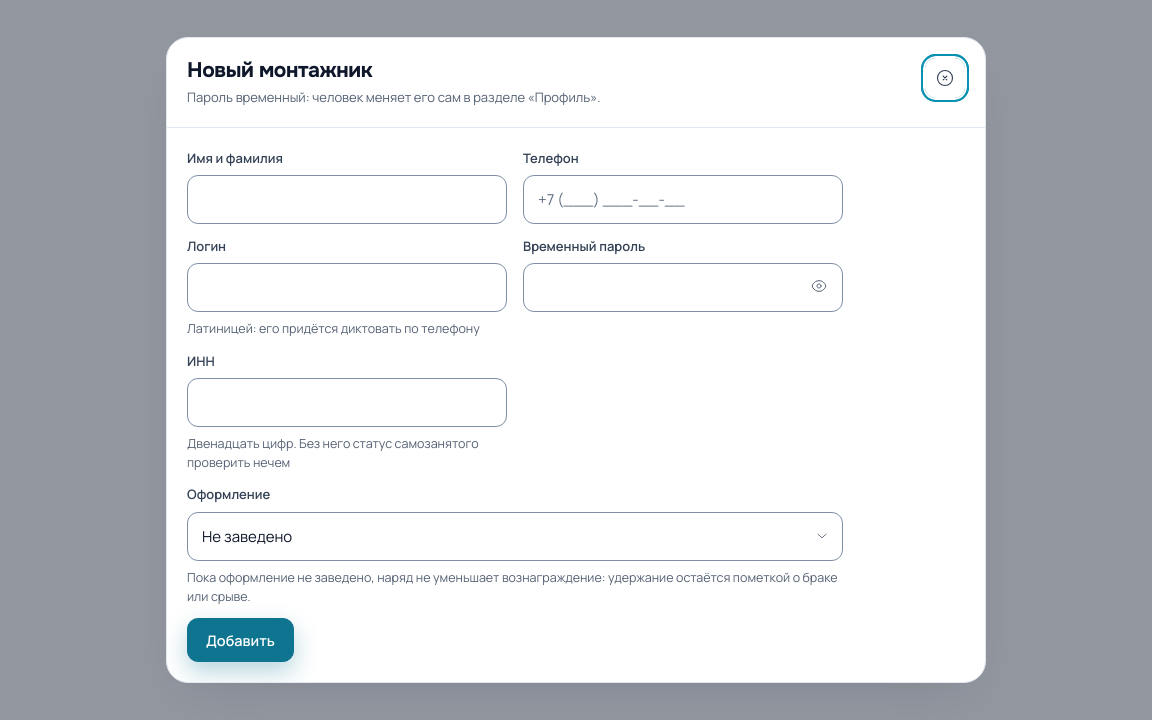
it: Окно заведения монтажника › 🔴 заполненная форма по Escape спрашивает, а не закрывается молча
In the field labelled "Логин": (347, 288) [187, 263, 507, 312], type "sokolov"
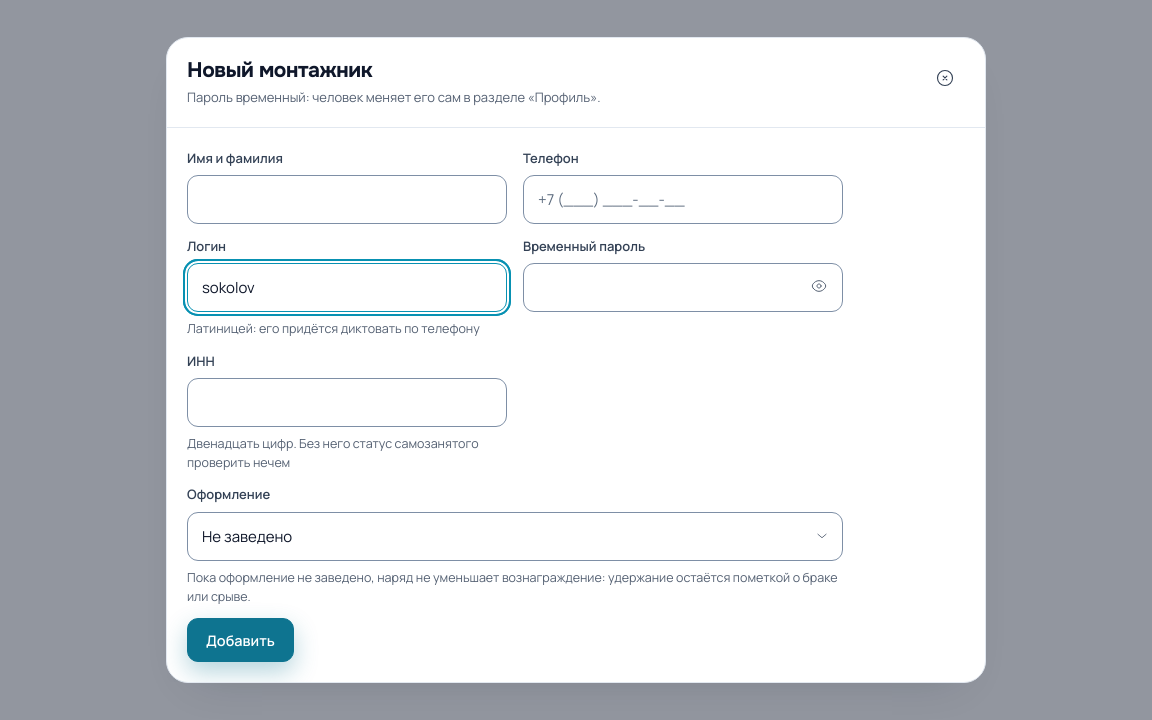
Press Escape
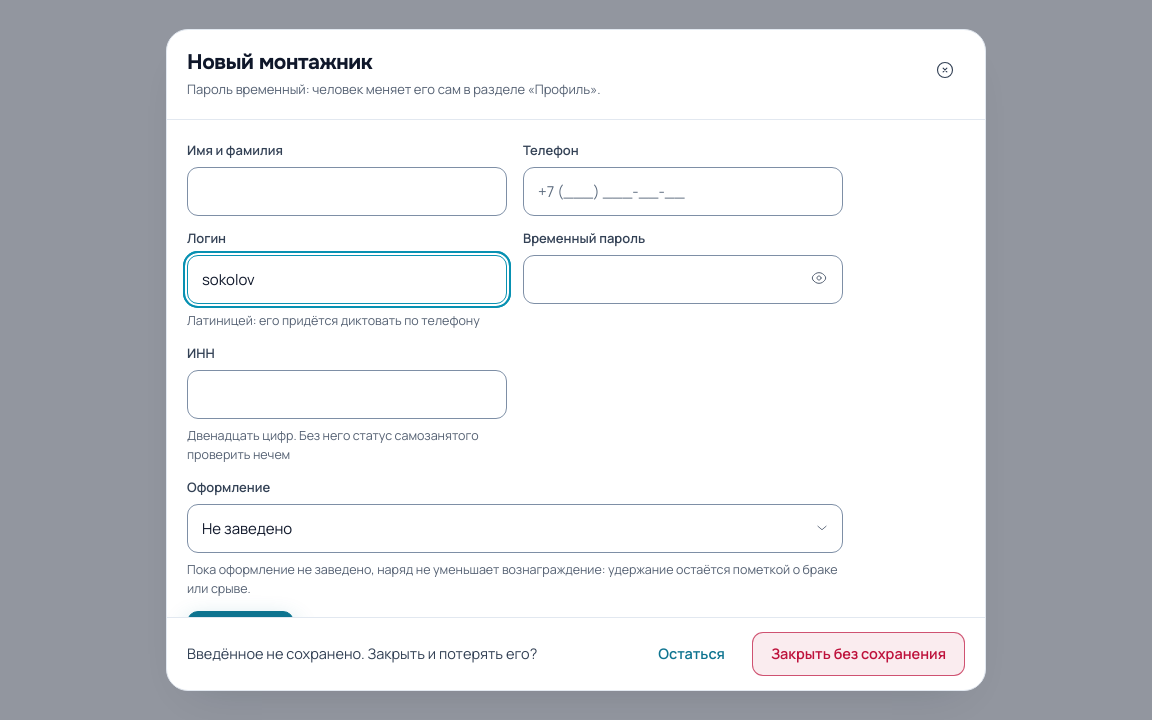
expect the dialog is shown: met, box [187, 632, 965, 676]
